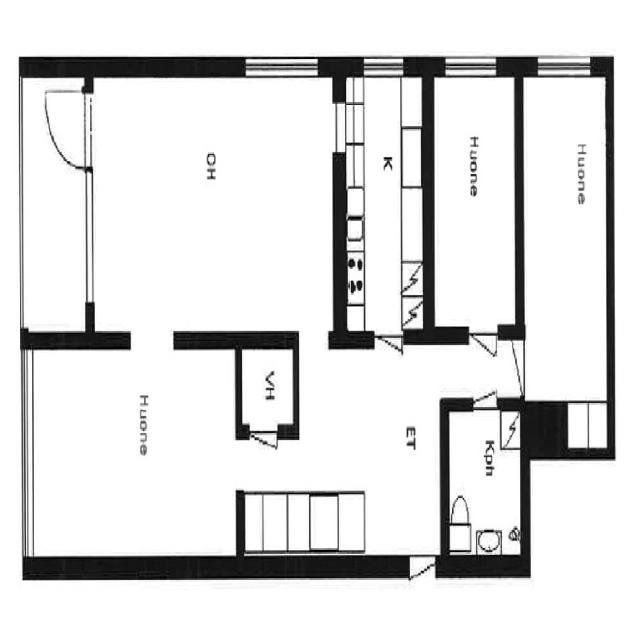door: (43, 80, 90, 170), (245, 424, 282, 474), (465, 322, 501, 370), (369, 328, 408, 364), (404, 548, 439, 585), (467, 388, 503, 418)
window: (18, 340, 36, 570), (240, 51, 322, 84), (530, 46, 596, 86), (437, 48, 502, 86), (356, 49, 410, 82), (84, 168, 95, 306), (328, 95, 349, 159), (370, 330, 408, 362), (467, 385, 503, 417)
zone: (88, 73, 340, 335), (26, 342, 240, 573), (521, 65, 609, 422), (433, 69, 518, 334), (342, 71, 426, 337), (447, 404, 524, 563), (240, 345, 297, 431)
